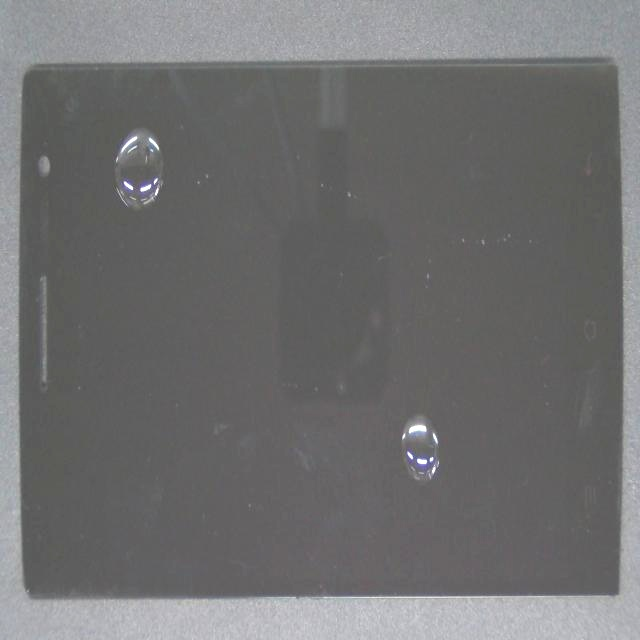oil: (223, 200, 628, 613), (95, 102, 252, 242)
